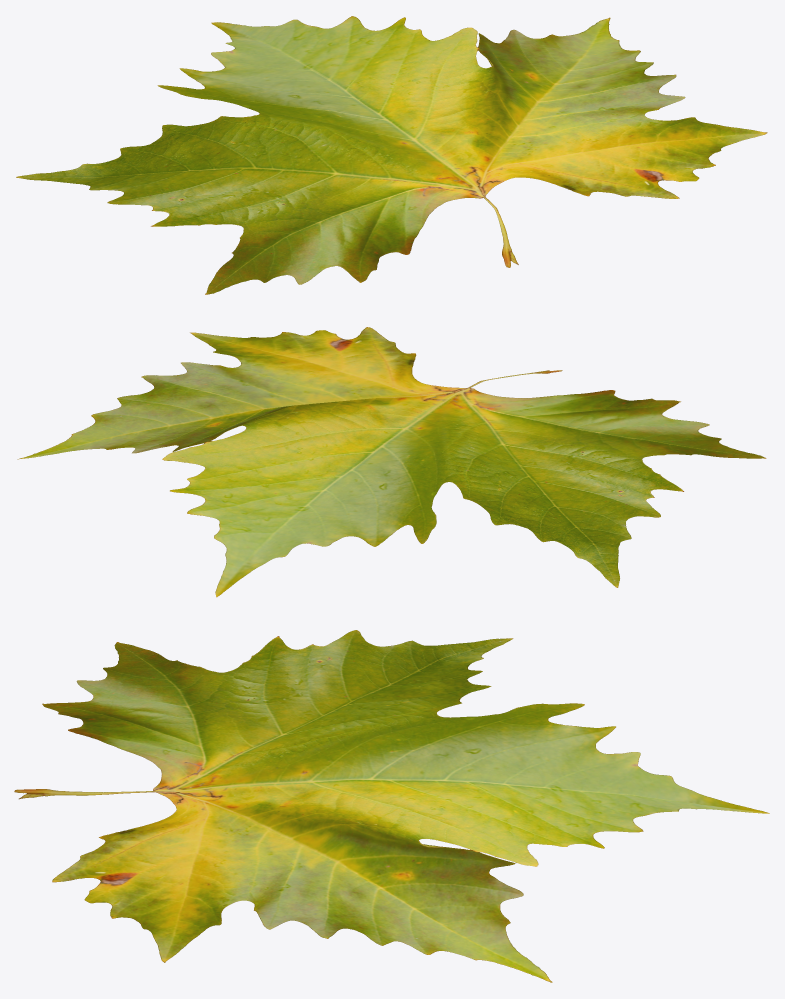
Rendered from leaf.fbx.
3 views of the same model, one above another, from view 1: azimuth 30°, elevation 25°; view 2: azimuth 150°, elevation 25°; view 3: azimuth 270°, elevation 25° (orthographic). The views are drawn at different scales.
Parts seen in each view (by area): view 1: leaf_geo; view 2: leaf_geo; view 3: leaf_geo.
Boxes of the visible parts, x1,y1,x2,y2 form: leaf_geo: [16, 16, 767, 294]; leaf_geo: [17, 327, 766, 597]; leaf_geo: [14, 630, 769, 982].
Size of the model in its own units: 4.9 by 0.3179 by 4.55.
Materials: 1 (1 with a texture image).
